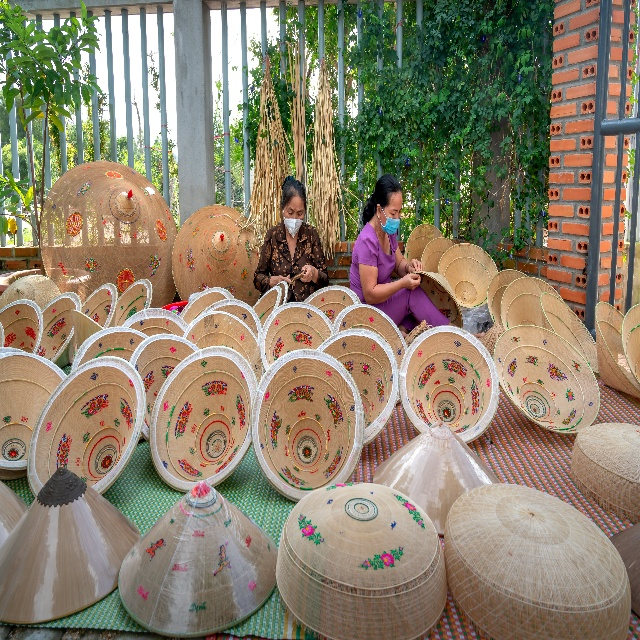Mascara: (379, 204, 402, 235), (282, 207, 304, 239)
Sin_guantes: (400, 272, 421, 290), (269, 274, 291, 288), (406, 257, 424, 274), (299, 263, 314, 283)
